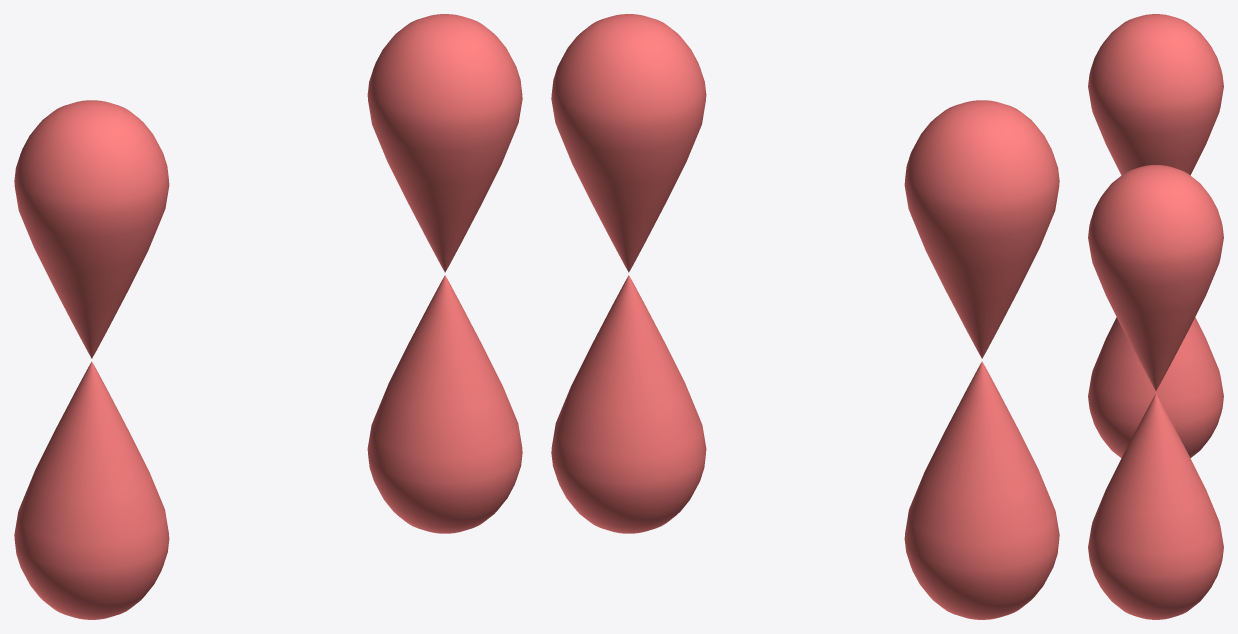
Rendered from s054 4.05.1_překryv_p-p.glb.
3 renders of one model, left to right at view 1: azimuth 30°, elevation 25°; view 2: azimuth 150°, elevation 25°; view 3: azimuth 270°, elevation 25°, orthographic. The views are drawn at different scales.
Visible parts, largest first — view 1: hybrid.003_Sphere.001 5 (×2); view 2: hybrid.003_Sphere.001 5 (×2); view 3: hybrid.003_Sphere.001 5 (×2).
Boxes of the visible parts, x1=… form: hybrid.003_Sphere.001 5 (×2): x1=14, y1=14, x2=522, y2=619; hybrid.003_Sphere.001 5 (×2): x1=551, y1=14, x2=1059, y2=619; hybrid.003_Sphere.001 5 (×2): x1=1088, y1=14, x2=1223, y2=619.
Size of the model in its own units: 0.0655 by 0.0647 by 0.0181.
